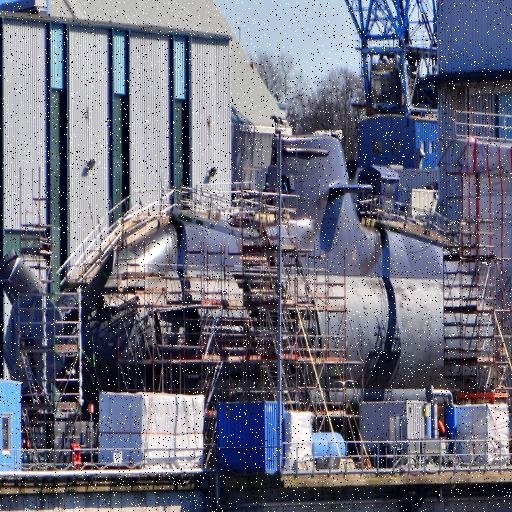submarine: (1, 137, 500, 388)
